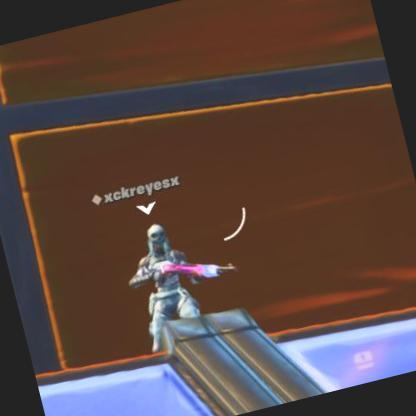person: (124, 210, 209, 352)
